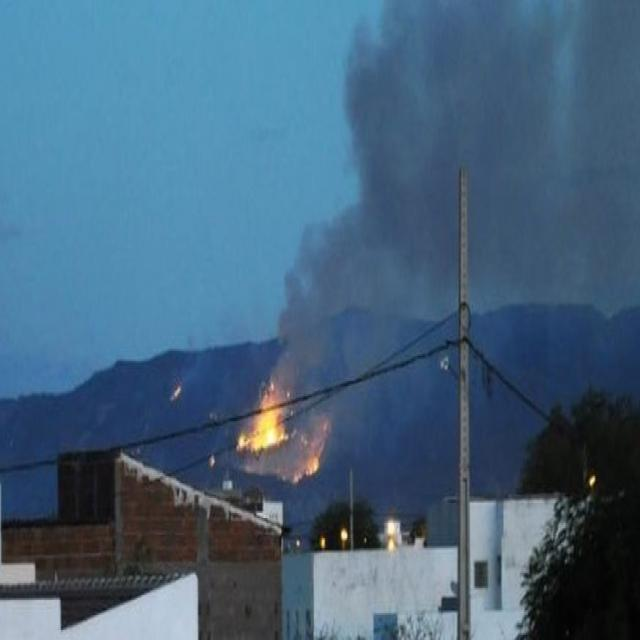Fire: (292, 429, 328, 492), (242, 419, 288, 456), (172, 380, 182, 404)
Smoke: (278, 15, 630, 465), (187, 292, 247, 378)
